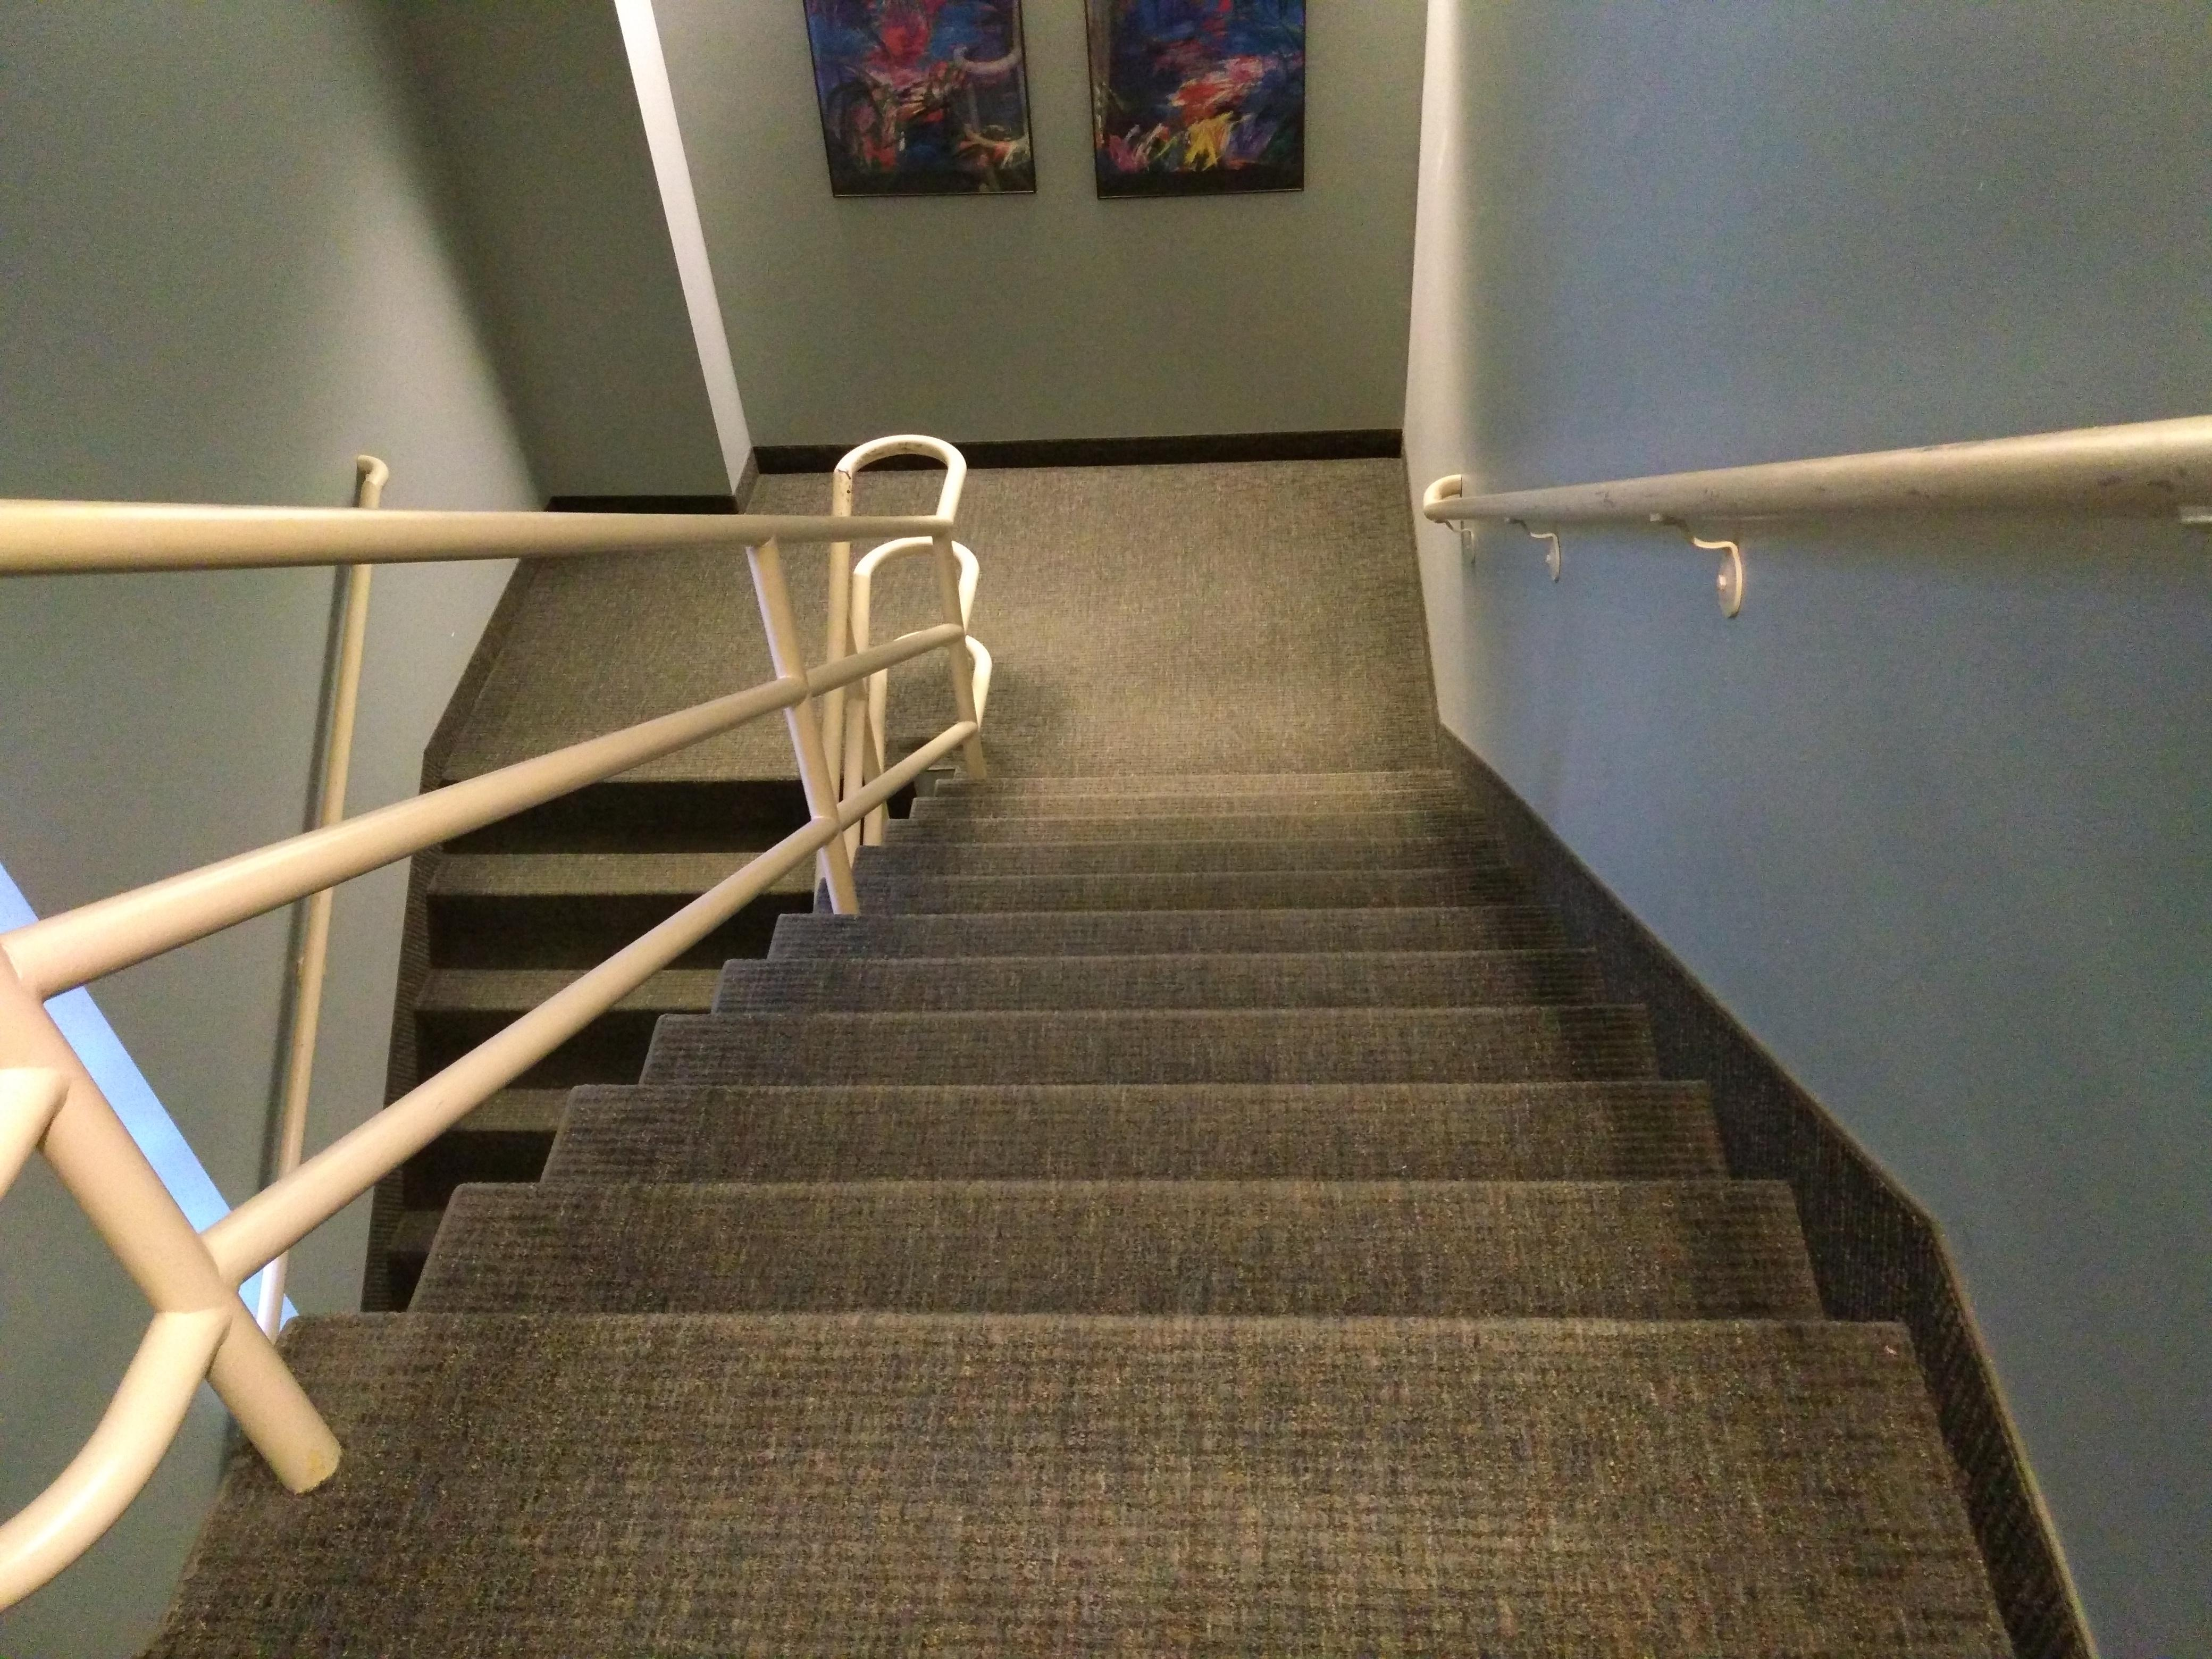stairs_down: (580, 704, 1726, 1415)
